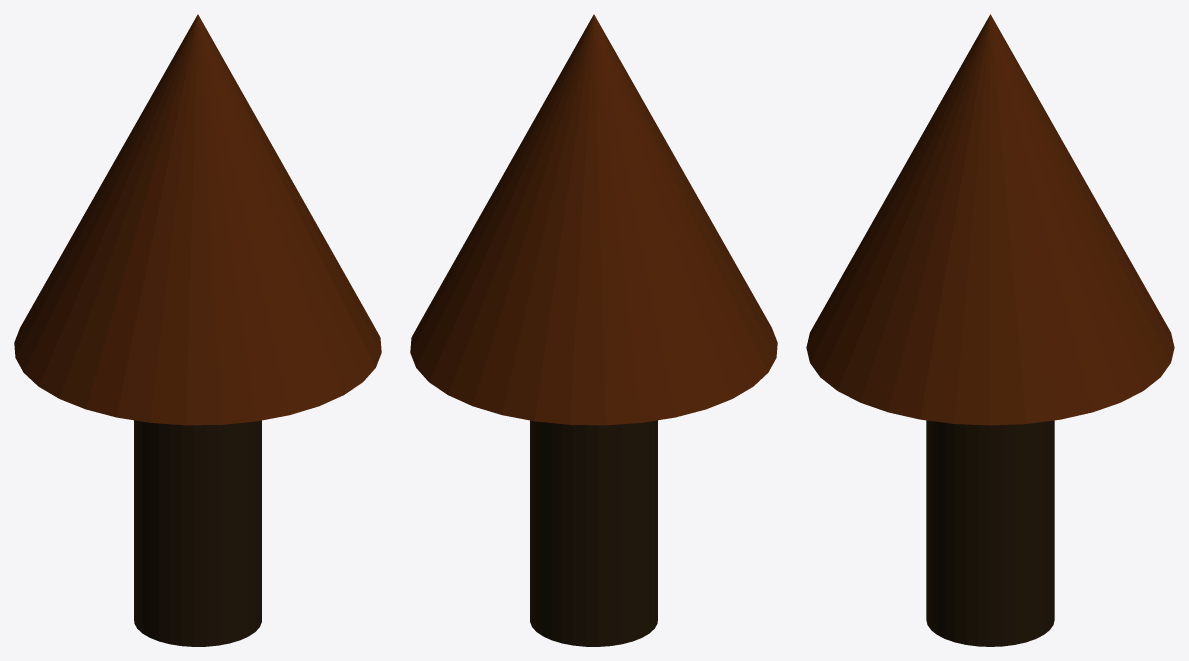
Rendered from treeSpace.fbx.
3 renders of one model, left to right at view 1: azimuth 30°, elevation 25°; view 2: azimuth 150°, elevation 25°; view 3: azimuth 270°, elevation 25°, orthographic.
Parts seen in each view (by area): view 1: Cone; view 2: Cone; view 3: Cone.
Boxes of the visible parts, x1,y1,x2,y2 form: Cone: (14, 14, 381, 646); Cone: (410, 14, 777, 646); Cone: (806, 14, 1174, 646).
Size of the model in its own units: 198 by 359 by 198.
